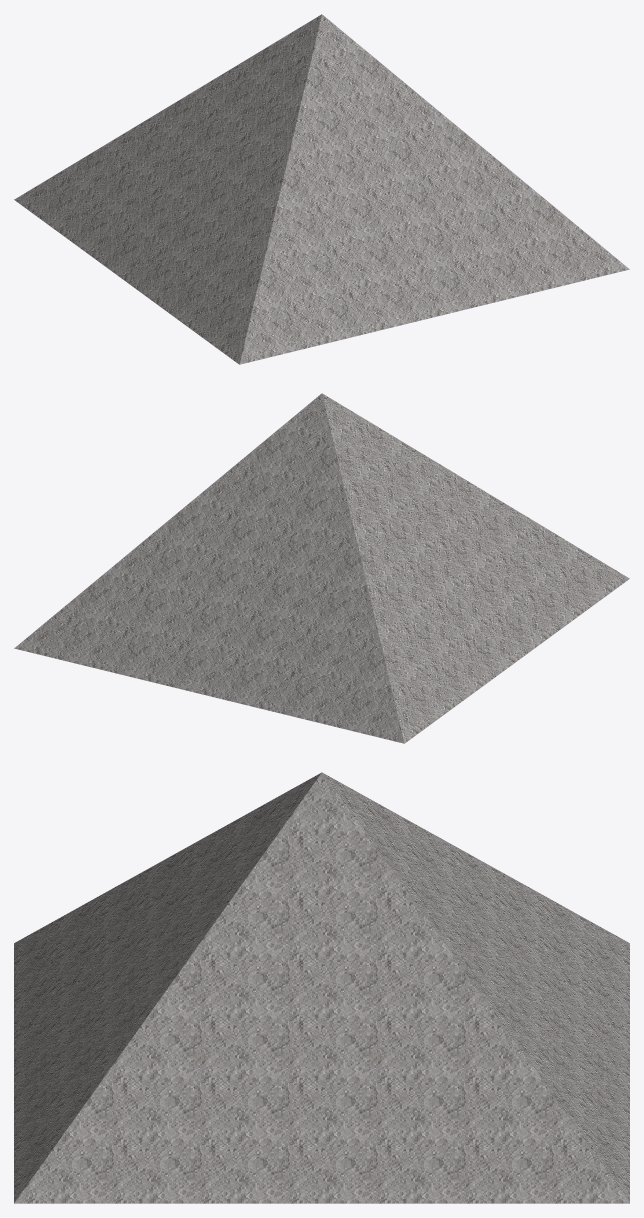
3 renders of one model, top to bottom at view 1: azimuth 30°, elevation 25°; view 2: azimuth 150°, elevation 25°; view 3: azimuth 270°, elevation 25°, orthographic. The views are drawn at different scales.
Parts seen in each view (by area): view 1: Plane; view 2: Plane; view 3: Plane.
Part boxes in pixels (x1,y1,x2,y2): Plane: (14, 14, 629, 364); Plane: (14, 393, 629, 743); Plane: (14, 772, 629, 1203).
Size of the model in its own units: 20 by 10.79 by 20.
Materials: 1 (1 with a texture image).
